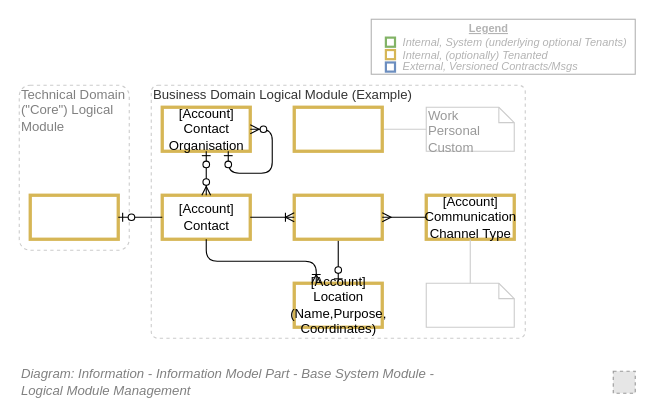
Some shapes in this 655 by 417 pixel diagram are drawn without their labels. Grey dashed boxes stand in for pictures. The shapes that lost their labels are listed below. From the top down, each one's centre as x and y in pixels, then its label:
At (x=337, y=128): "[Account] Communication Channel Purpose".
At (x=73, y=216): "[Account] Member Profile".
At (x=337, y=216): "[Account] Comm Channel (Name,Reason, Values)".
At (x=469, y=304): "Email Phone Postal".
